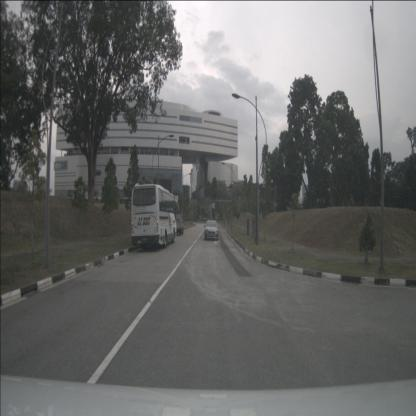vehicle-bus-rigid: (131, 184, 177, 248)
vehicle-car: (169, 213, 184, 235), (204, 220, 219, 241)
